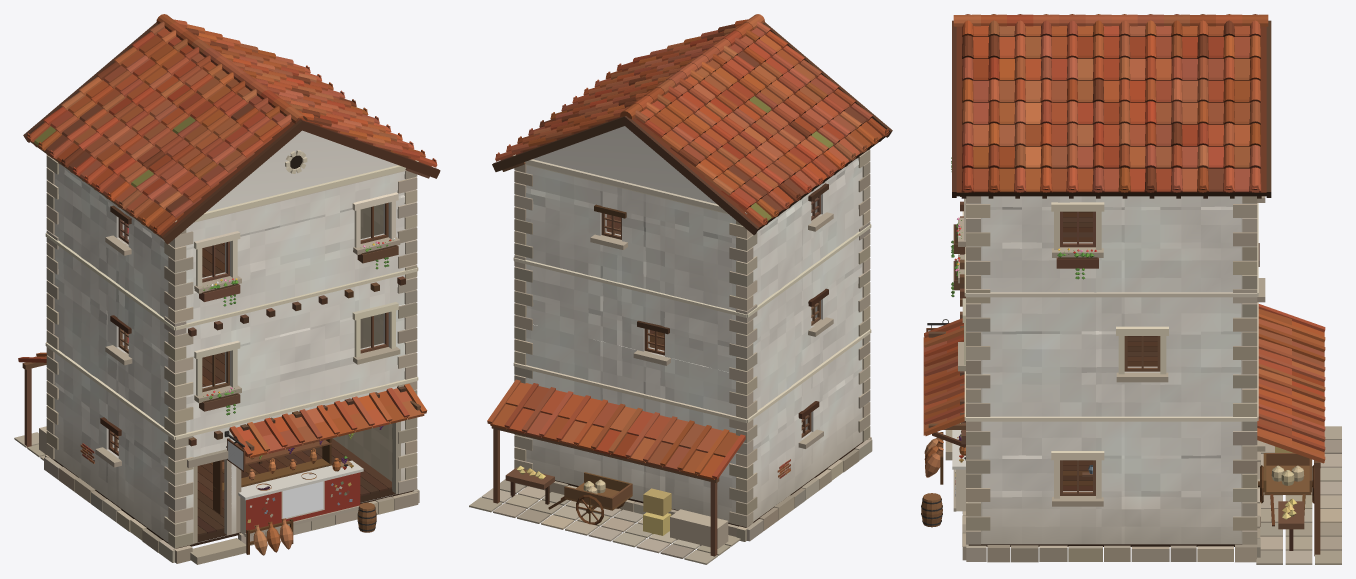
The model's file is shop_mansio.glb.
3 views of the same model, side by side, from view 1: azimuth 30°, elevation 25°; view 2: azimuth 150°, elevation 25°; view 3: azimuth 270°, elevation 25° (orthographic). The views are drawn at different scales.
Visible parts, largest first — view 1: House, Walls, Rooms; view 2: House, Walls; view 3: House, Walls, Rooms.
Part boxes in pixels (x1=…): House: x1=14, y1=14, x2=440, y2=564; Walls: x1=54, y1=130, x2=414, y2=543; Rooms: x1=117, y1=204, x2=392, y2=535; House: x1=469, y1=14, x2=892, y2=564; Walls: x1=517, y1=126, x2=862, y2=522; House: x1=921, y1=14, x2=1341, y2=564; Walls: x1=968, y1=196, x2=1254, y2=544; Rooms: x1=1063, y1=211, x2=1157, y2=490.
Size of the model in its own units: 5.64 by 8.08 by 6.44.
7 materials, 7 textured.
